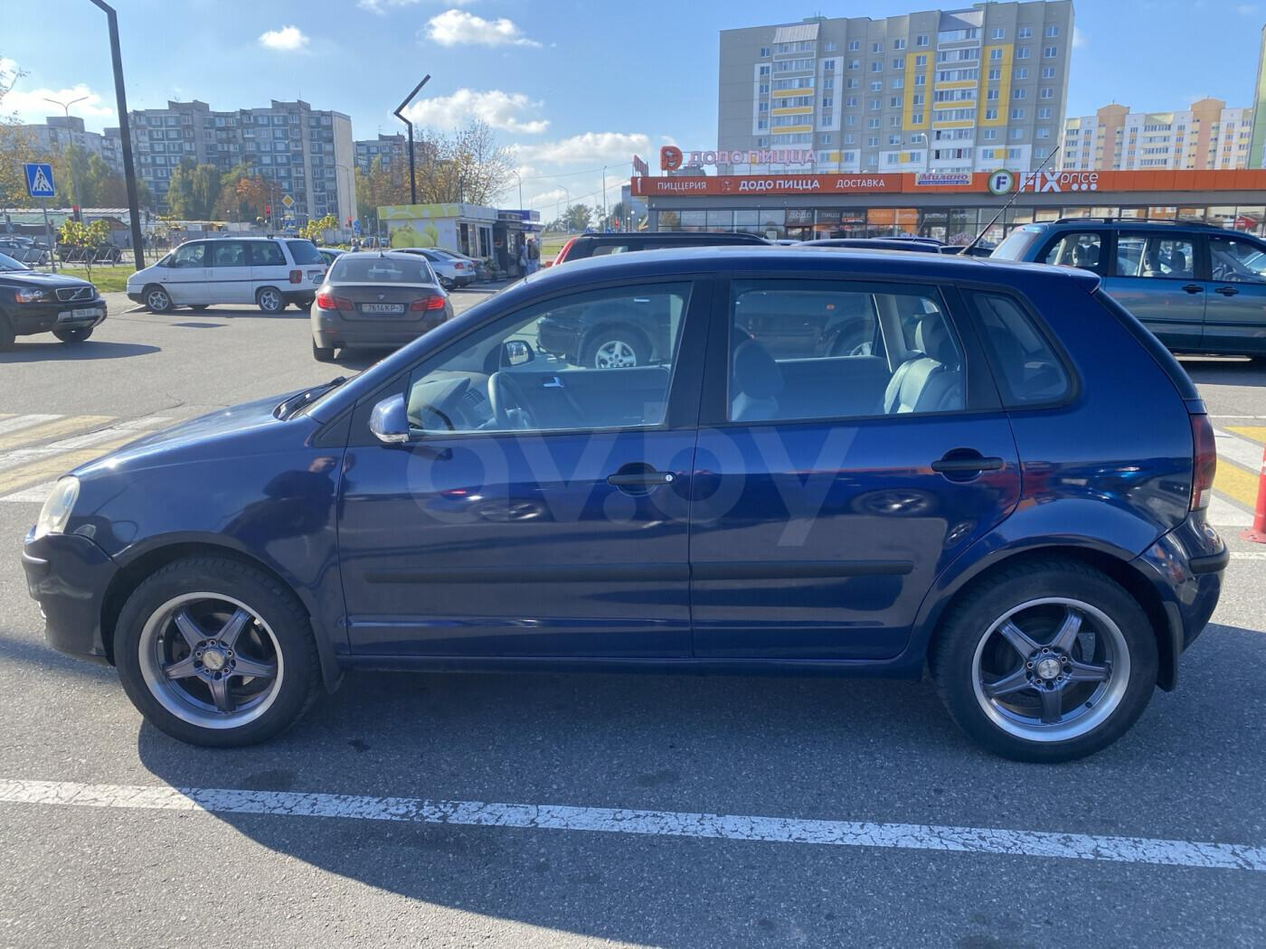Polo_2005-2009: (24, 237, 1220, 795)
